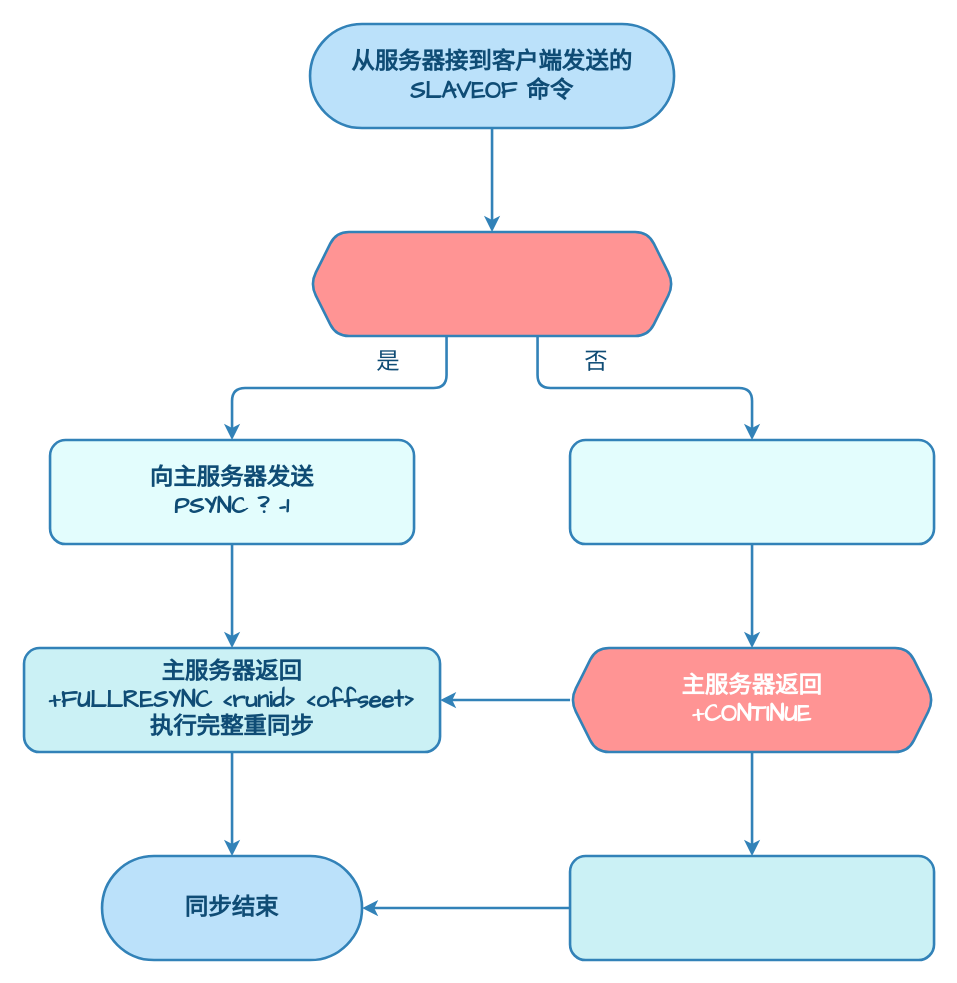
Some shapes in this 957 by 983 pixel diagram are drawn without their labels. Each missing label, with the centre of its shape:
"从服务器 第一次执行复制" belongs at [491,283].
"向主服务器发送 PSYNC <runid> <offset>" belongs at [751,491].
"执行部分重同步" belongs at [751,907].
